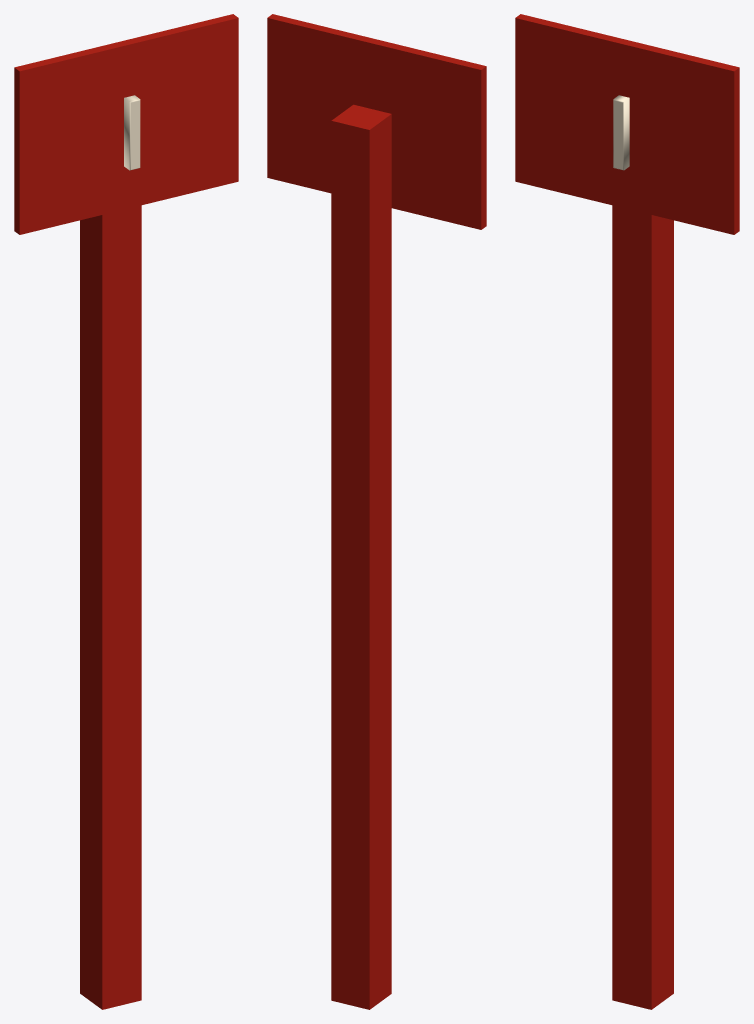
Rendered from hole_1.obj.
3 views of the same model, side by side, from view 1: azimuth 30°, elevation 25°; view 2: azimuth 150°, elevation 25°; view 3: azimuth 330°, elevation 25° (orthographic). The views are drawn at different scales.
Parts seen in each view (by area): view 1: Stake, Board, Number_1; view 2: Stake, Board; view 3: Stake, Board, Number_1.
Boxes of the visible parts, x1,y1,x2,y2 form: Stake: (80, 205, 141, 1009); Board: (14, 14, 238, 234); Number_1: (124, 95, 140, 170); Stake: (331, 104, 391, 1009); Board: (267, 14, 486, 229); Stake: (612, 205, 673, 1009); Board: (515, 14, 739, 234); Number_1: (613, 95, 629, 170).
Size of what is drawn, in the model's own units: 0.28 by 1.18 by 0.08.
